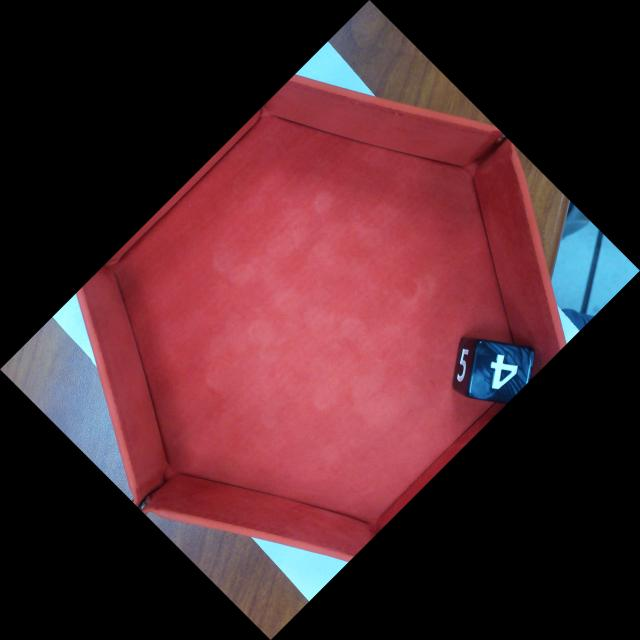dice: (467, 339, 536, 408)
